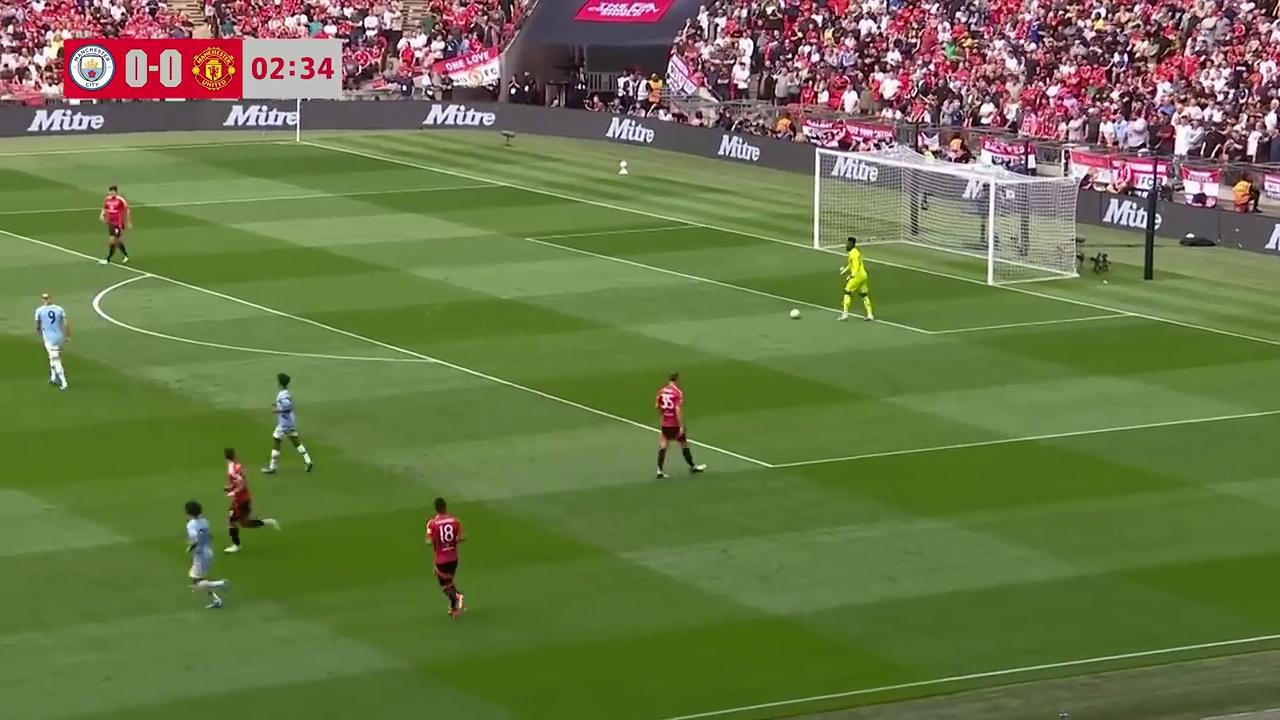ball: (787, 307, 803, 322)
player: (222, 447, 279, 553), (653, 374, 701, 479), (425, 497, 466, 619), (264, 374, 313, 475), (183, 500, 226, 607), (34, 292, 70, 390), (838, 240, 874, 322), (99, 183, 131, 266)
